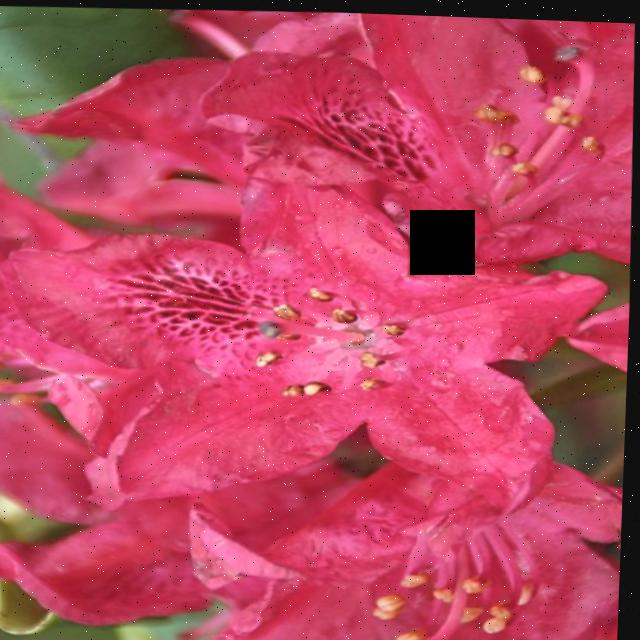azalea: (132, 199, 568, 523), (287, 12, 632, 281), (213, 438, 627, 640)
